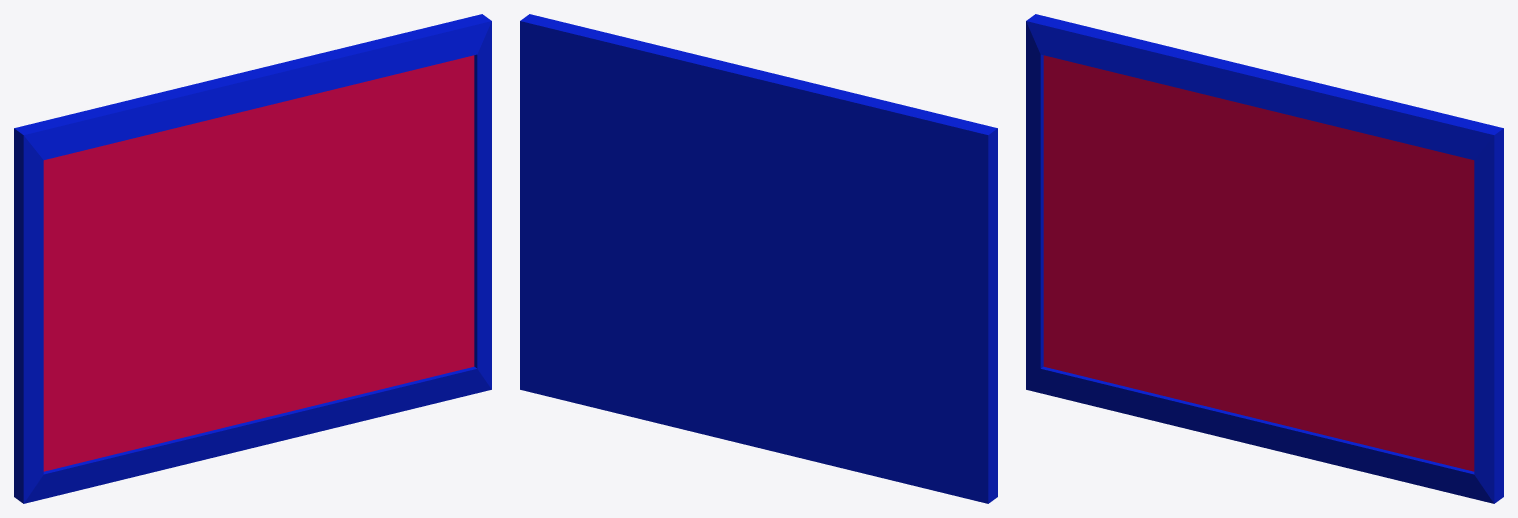
The model's file is BlankWall2x1UVID.fbx.
The picture shows the model from 3 angles, left to right: view 1: azimuth 30°, elevation 25°; view 2: azimuth 150°, elevation 25°; view 3: azimuth 330°, elevation 25°; orthographic projection.
Parts seen in each view (by area): view 1: Wall3.003; view 2: Wall3.003; view 3: Wall3.003.
Boxes of the visible parts, x1,y1,x2,y2 form: Wall3.003: [14, 14, 491, 503]; Wall3.003: [520, 14, 997, 503]; Wall3.003: [1026, 14, 1503, 503].
Size of the model in its own units: 131 by 98.79 by 5.99.
